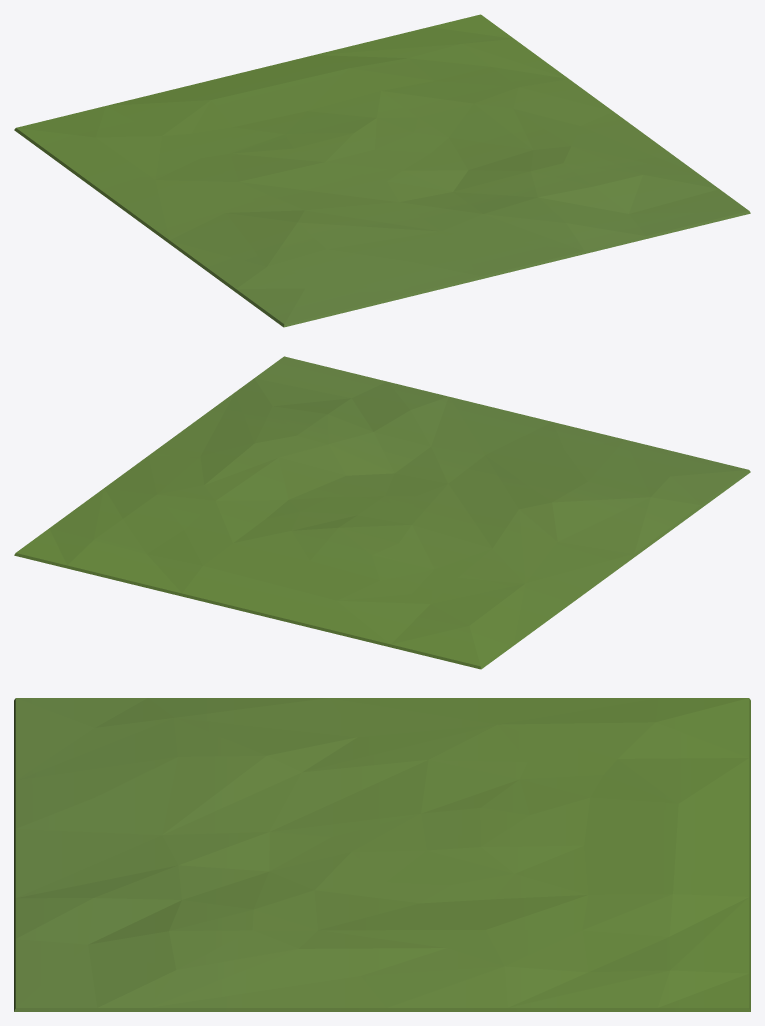
Rendered from Mud_06.fbx.
The picture shows the model from 3 angles, top to bottom: view 1: azimuth 30°, elevation 25°; view 2: azimuth 150°, elevation 25°; view 3: azimuth 270°, elevation 25°; orthographic projection. The views are drawn at different scales.
Visible parts, largest first — view 1: Mud_06; view 2: Mud_06; view 3: Mud_06.
Boxes of the visible parts, box(x1,y1,x2,y2) form: Mud_06: box(14, 14, 750, 327); Mud_06: box(14, 356, 750, 669); Mud_06: box(14, 698, 750, 1011).
Size of the model in its own units: 4.02 by 0.0938 by 4.02.
